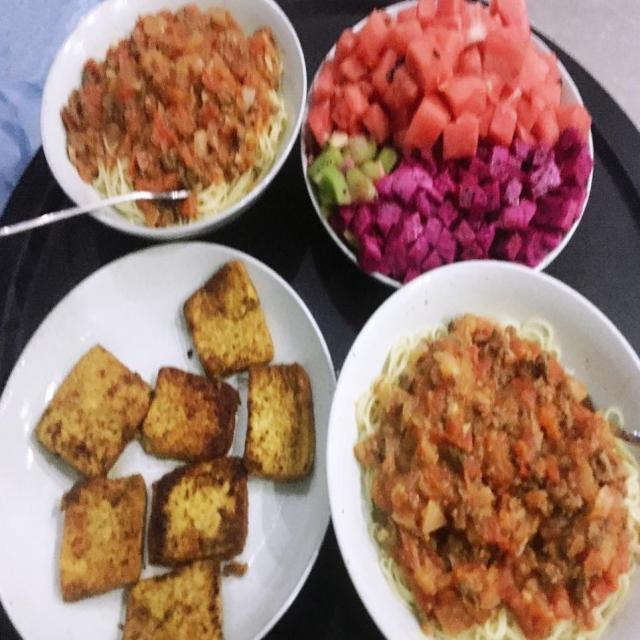Wet: (305, 0, 595, 285)
